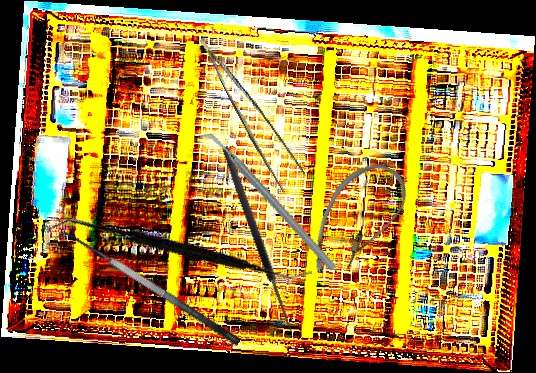Cannula: (300, 151, 416, 293)
Chopper: (197, 104, 337, 297)
Hook Surgical: (220, 142, 306, 335)
Spatula Surgical: (48, 150, 313, 351), (51, 220, 242, 362)
Tissue Forceps: (199, 25, 310, 198)
